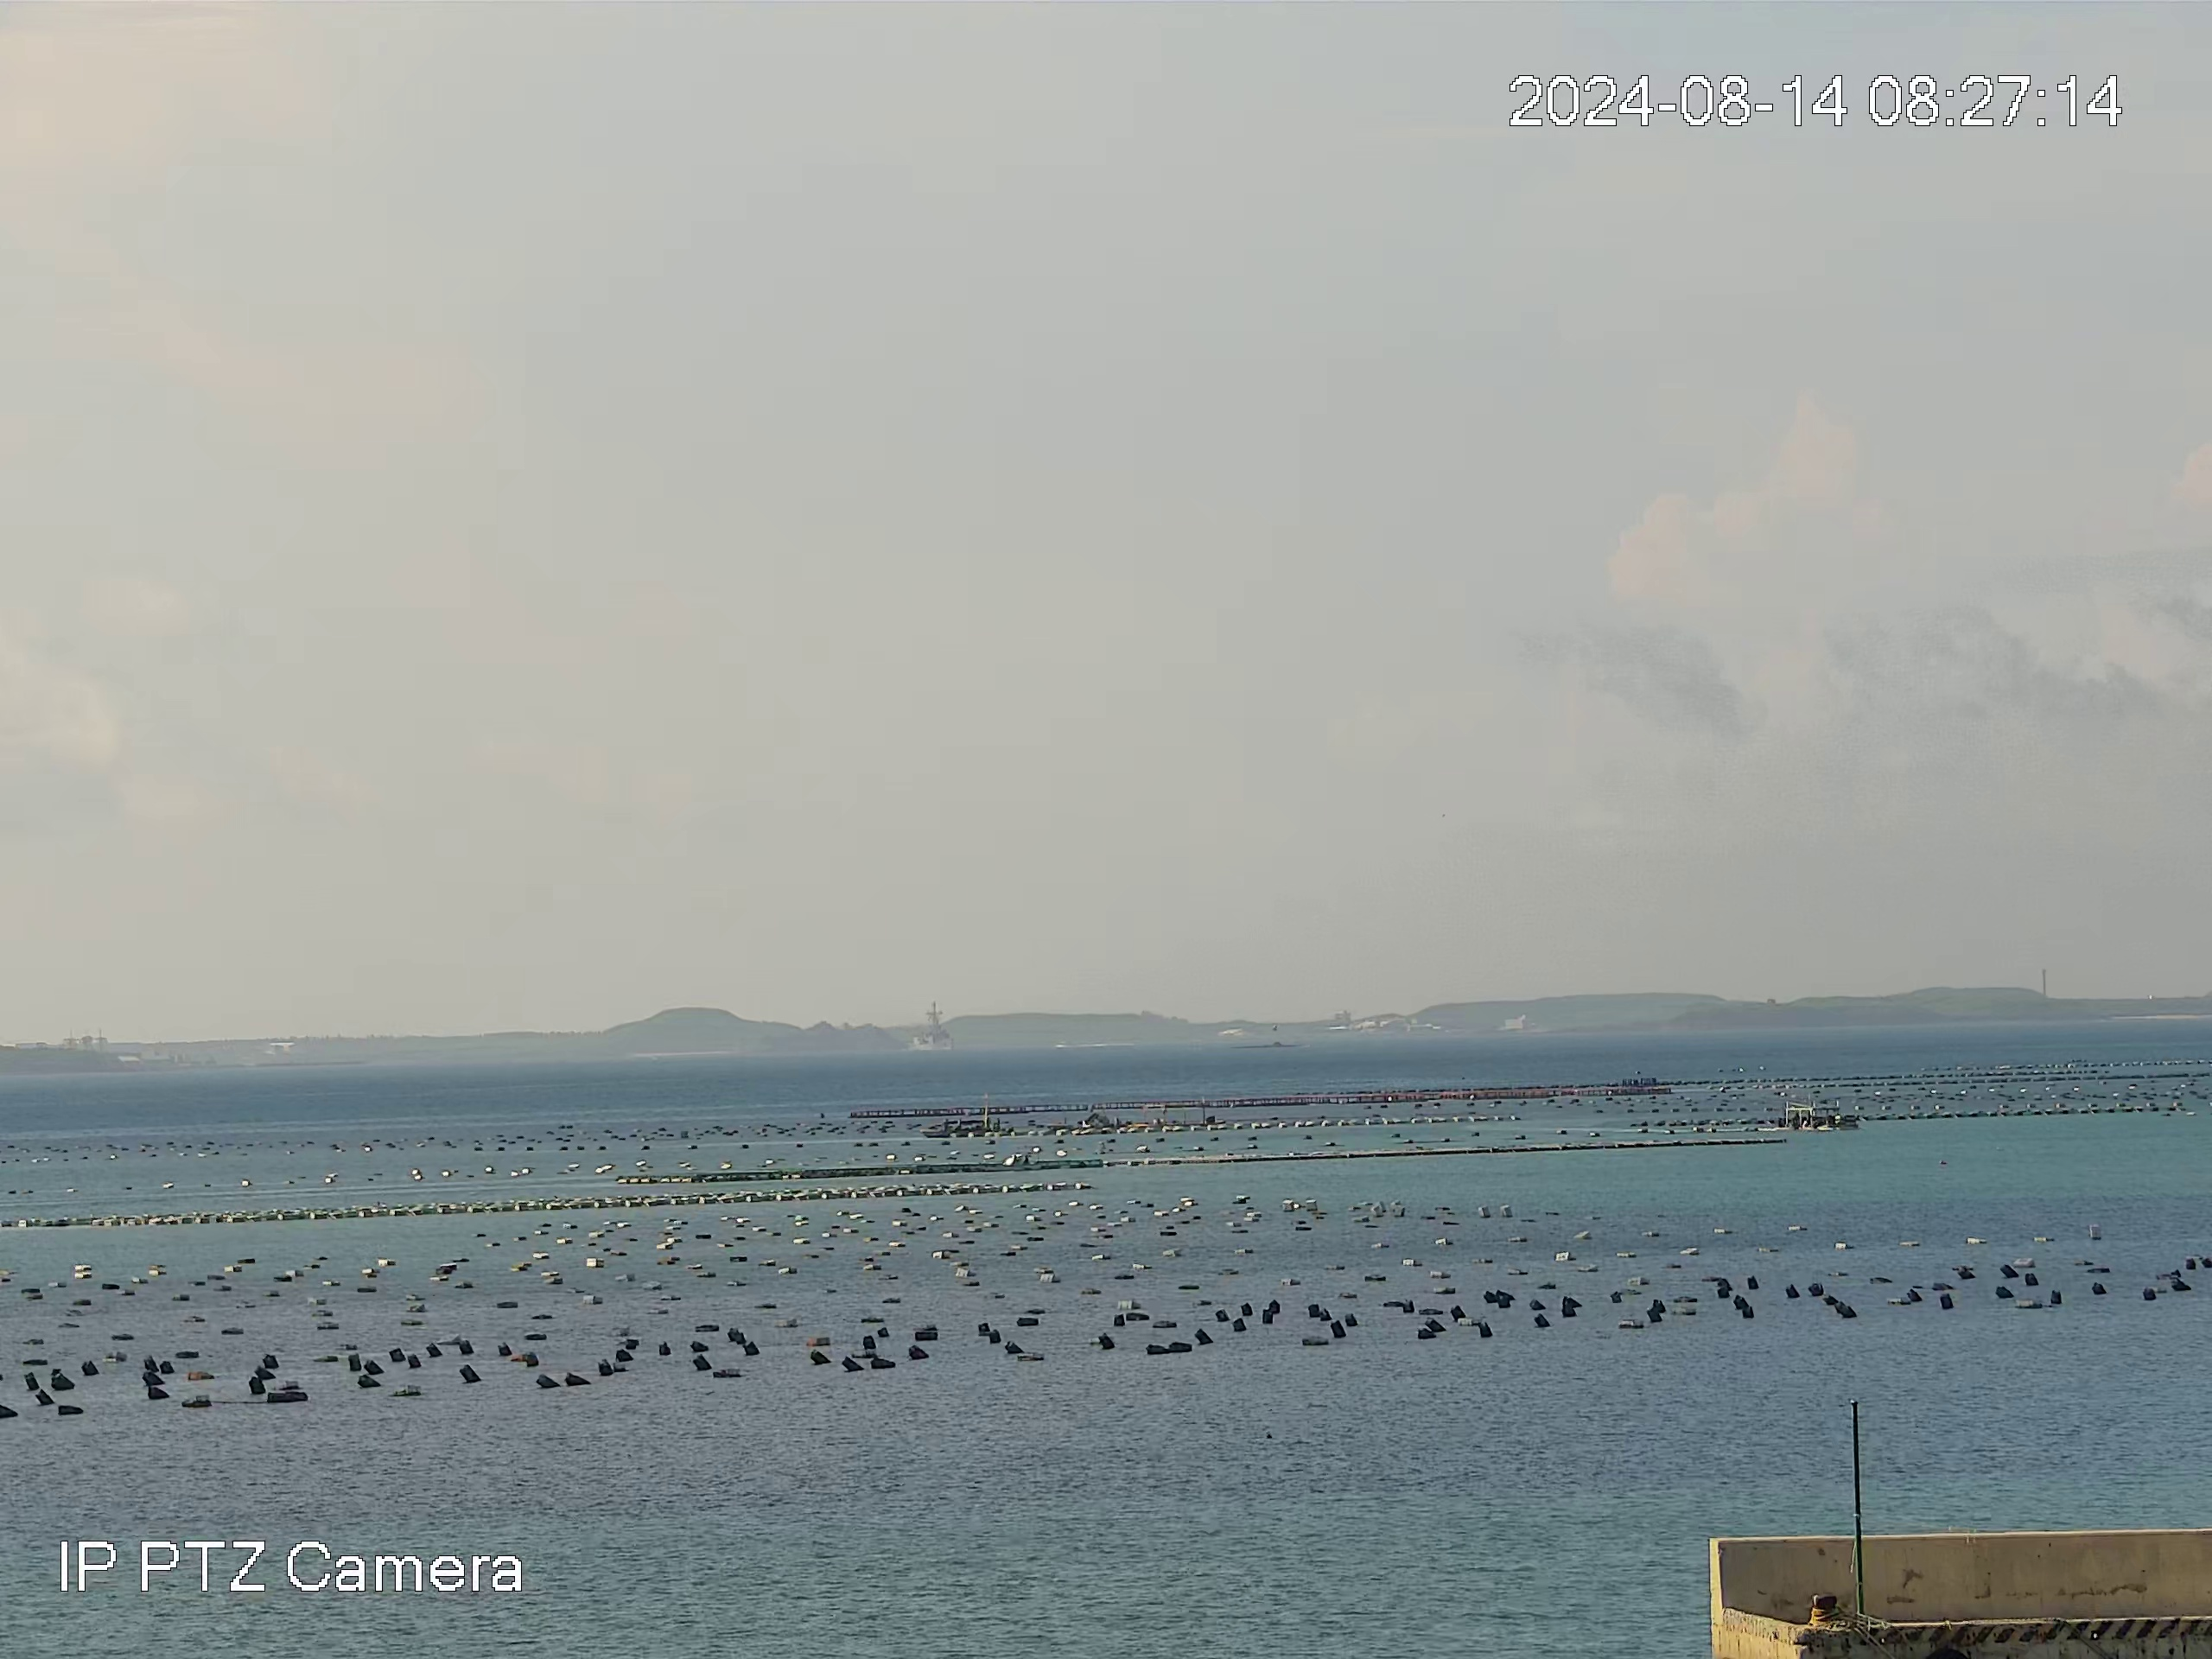boat: (1784, 1103, 1858, 1131), (918, 1115, 991, 1140)
